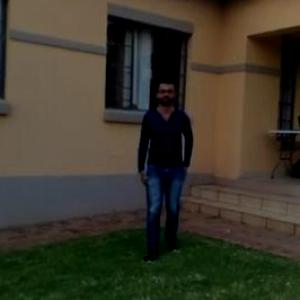follow: (140, 69, 198, 266)
